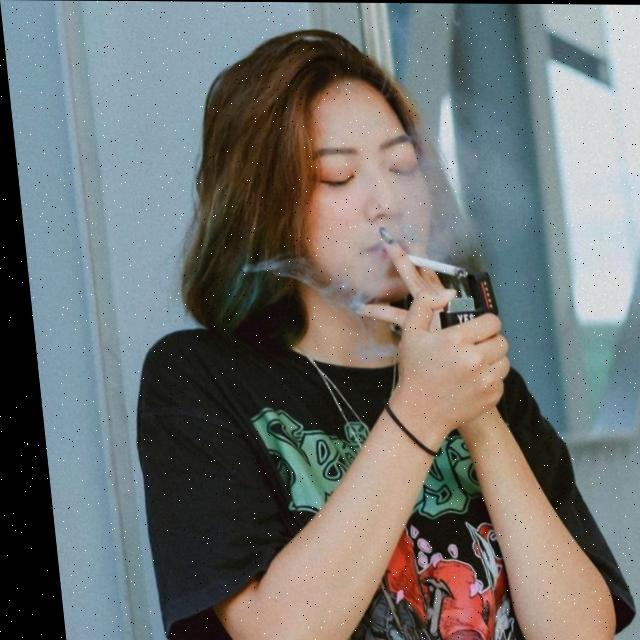cigarette: (401, 254, 463, 279)
